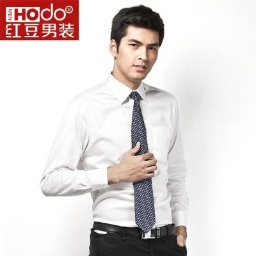face: (107, 3, 166, 85)
